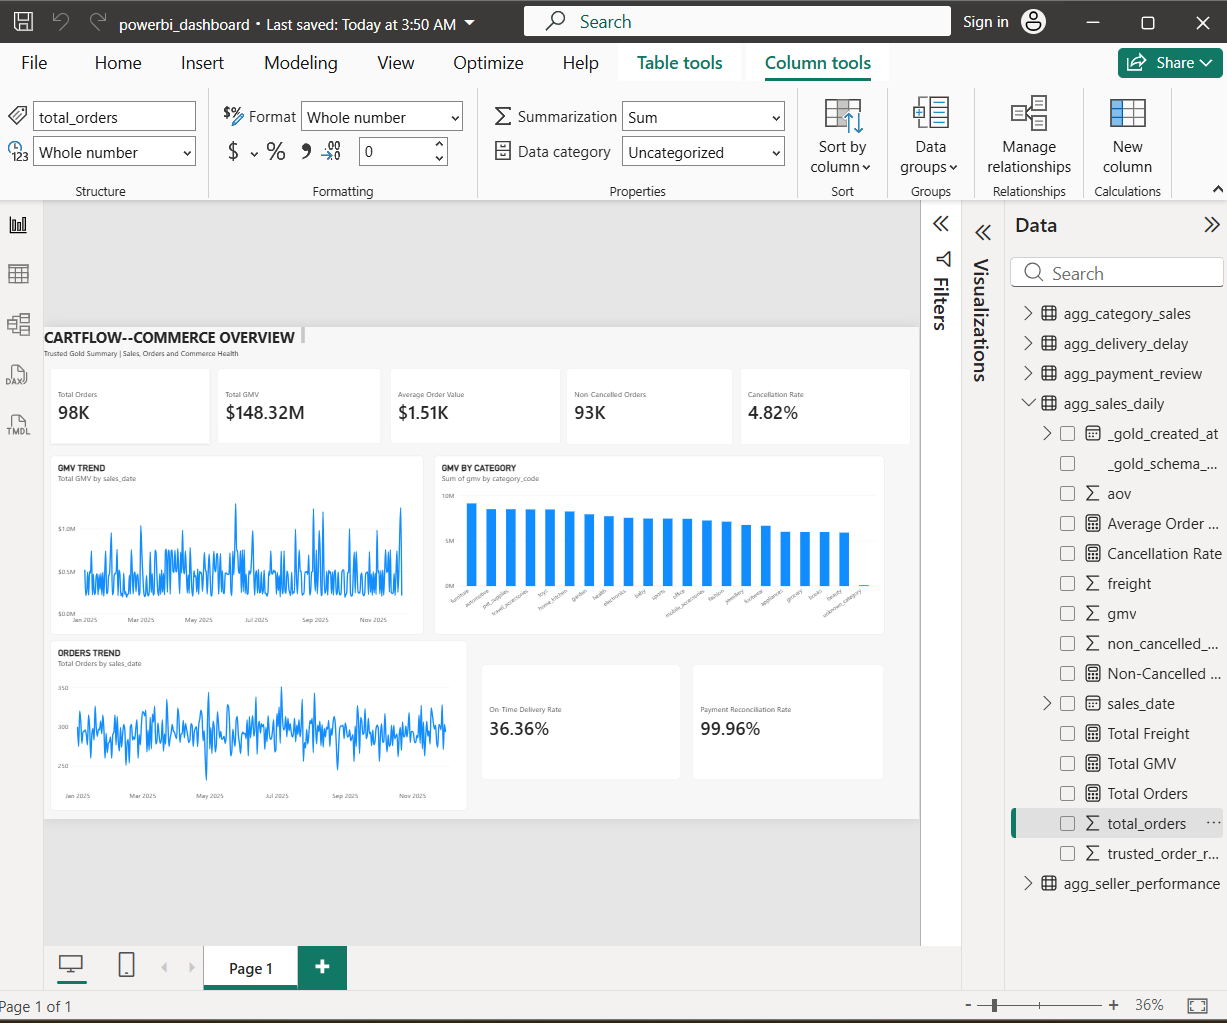

The dashboard page shown, as its layout file describes it:
{"tool":"powerbi","page":{"name":"Page 1","canvas":[1920,1080],"ordinal":0},"visuals":[{"type":"cardVisual","fields":{"Data":["agg_sales_daily.Total Orders"]},"box":[14,90,350,166],"z":0},{"type":"cardVisual","fields":{"Data":["agg_sales_daily.Total GMV"]},"box":[382,90,358,166],"z":1000},{"type":"cardVisual","fields":{"Data":["agg_sales_daily.Average Order Value"]},"box":[758,90,374,166],"z":2000},{"type":"cardVisual","fields":{"Data":["agg_sales_daily.Non-Cancelled Orders"]},"box":[1146,90,364,168],"z":3000},{"type":"cardVisual","fields":{"Data":["agg_sales_daily.Cancellation Rate"]},"box":[1526,90,374,168],"z":4000},{"type":"textbox","box":[0,0,572,46],"z":5000},{"type":"textbox","box":[0,46,496,48],"z":6000},{"type":"lineChart","title":"GMV TREND","fields":{"Category":["agg_sales_daily.sales_date"],"Y":["agg_sales_daily.Total GMV"]},"box":[14,282,818,392],"z":7000},{"type":"lineChart","title":"ORDERS TREND","fields":{"Category":["agg_sales_daily.sales_date"],"Y":["agg_sales_daily.Total Orders"]},"box":[14,688,914,372],"z":8000},{"type":"clusteredColumnChart","title":"GMV BY CATEGORY","fields":{"Category":["agg_category_sales.category_code"],"Y":["Sum(agg_category_sales.gmv)"]},"box":[854,282,988,392],"z":9000},{"type":"cardVisual","fields":{"Data":["agg_delivery_delay.On-Time Delivery Rate"]},"box":[960,740,436,252],"z":10000},{"type":"cardVisual","fields":{"Data":["Sum(agg_payment_review.payment_reconciliation_rate)"]},"box":[1424,740,418,252],"z":11000}]}

Visuals, with their boxes on the page's 1920x1080 design canvas (x1, y1, x2, y2). These are canvas units, not pixel positions in the 1227x1023 screenshot, which may show the page scaled, cropped or inside an application window:
cardVisual - agg_sales_daily.Total Orders: rect(14, 90, 364, 256)
cardVisual - agg_sales_daily.Total GMV: rect(382, 90, 740, 256)
cardVisual - agg_sales_daily.Average Order Value: rect(758, 90, 1132, 256)
cardVisual - agg_sales_daily.Non-Cancelled Orders: rect(1146, 90, 1510, 258)
cardVisual - agg_sales_daily.Cancellation Rate: rect(1526, 90, 1900, 258)
textbox: rect(0, 0, 572, 46)
textbox: rect(0, 46, 496, 94)
"GMV TREND" lineChart: rect(14, 282, 832, 674)
"ORDERS TREND" lineChart: rect(14, 688, 928, 1060)
"GMV BY CATEGORY" clusteredColumnChart: rect(854, 282, 1842, 674)
cardVisual - agg_delivery_delay.On-Time Delivery Rate: rect(960, 740, 1396, 992)
cardVisual - Sum(agg_payment_review.payment_reconciliation_rate): rect(1424, 740, 1842, 992)
